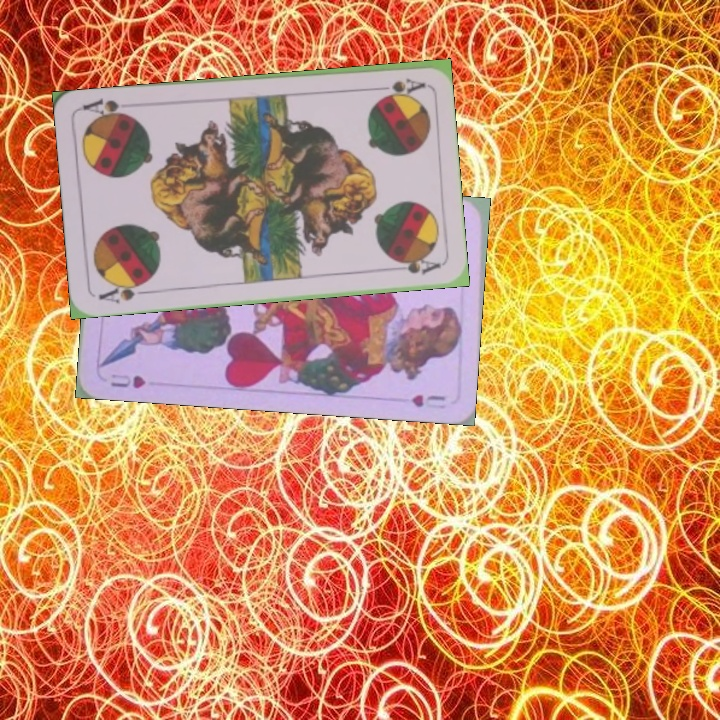HU: (107, 370, 148, 391)
SA: (95, 277, 153, 306), (367, 74, 427, 98)
